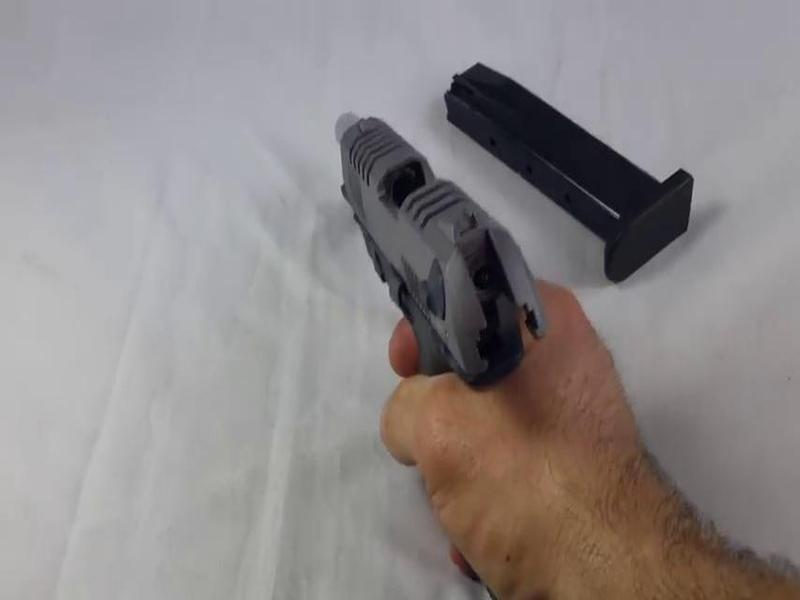Pistola: (305, 87, 572, 464)
